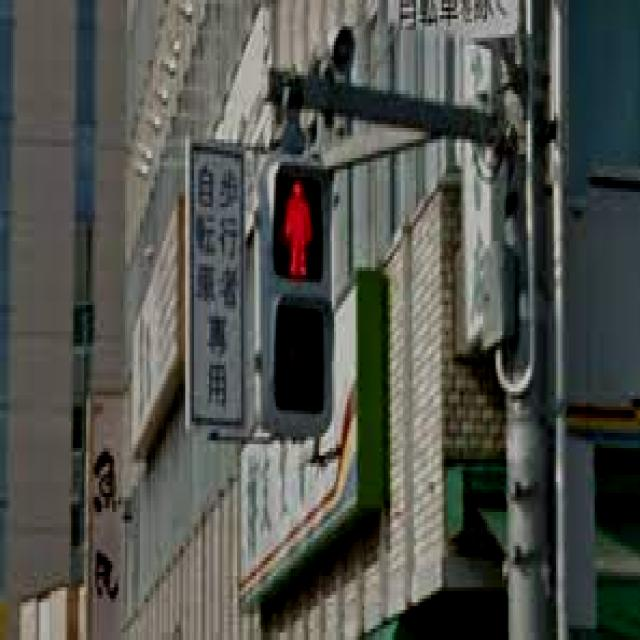trafficlight: (254, 139, 334, 437)
